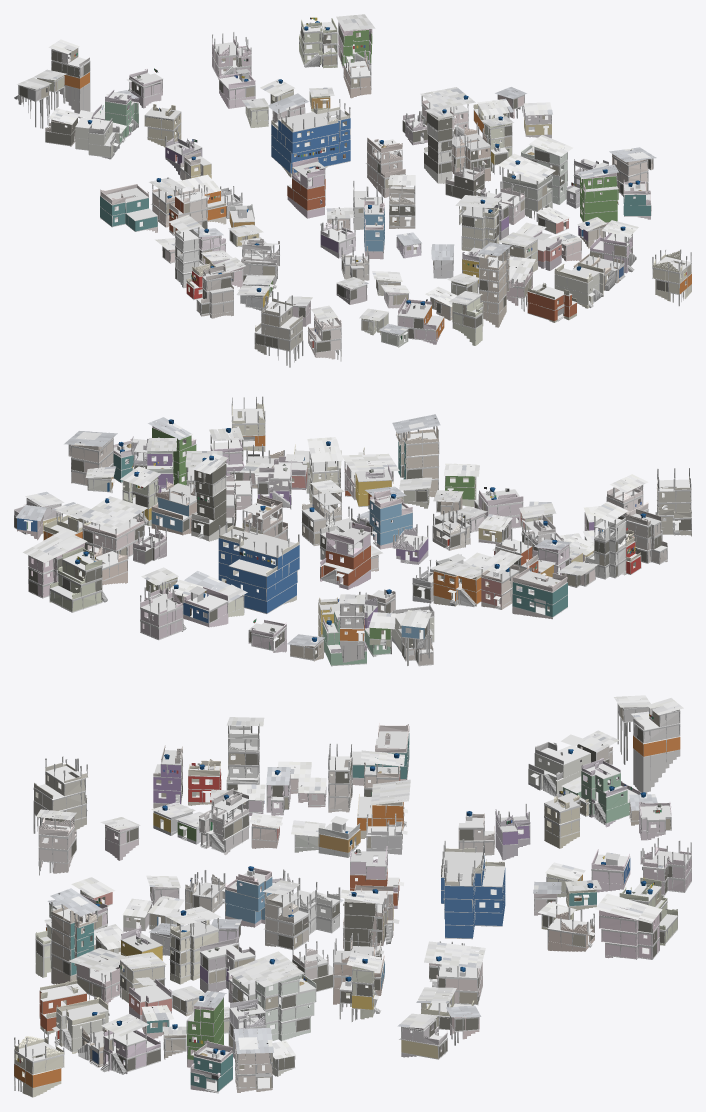
3 renders of one model, top to bottom at view 1: azimuth 30°, elevation 25°; view 2: azimuth 150°, elevation 25°; view 3: azimuth 270°, elevation 25°, orthographic. The views are drawn at different scales.
Visible parts, largest first — view 1: T_28_25; view 2: T_28_25; view 3: T_28_25.
Boxes of the visible parts, x1,y1,x2,y2 form: T_28_25: [14, 14, 691, 367]; T_28_25: [14, 396, 691, 666]; T_28_25: [14, 695, 691, 1097].
Bounding box in the file's own units: 135 × 39.31 × 134.
